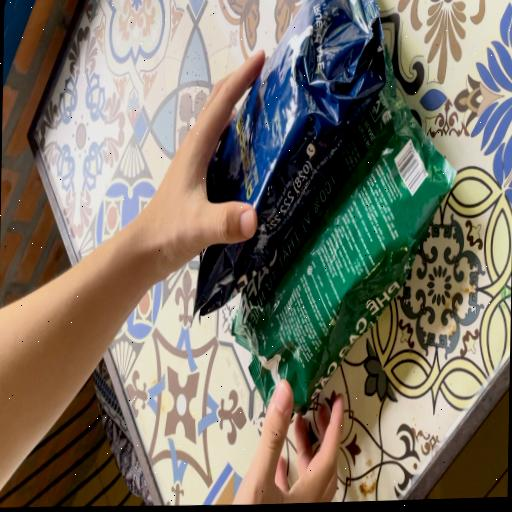cafe_hat: (194, 0, 386, 314)
cafe_xay: (232, 110, 456, 412)
